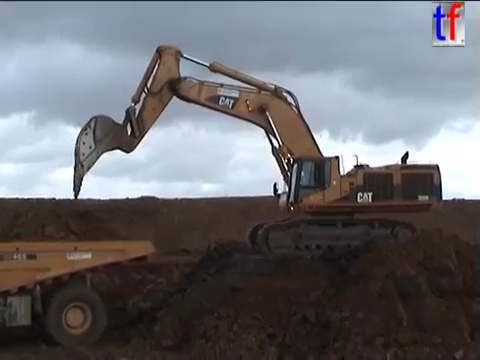excavator: (68, 41, 444, 263)
truck: (1, 236, 158, 349)
